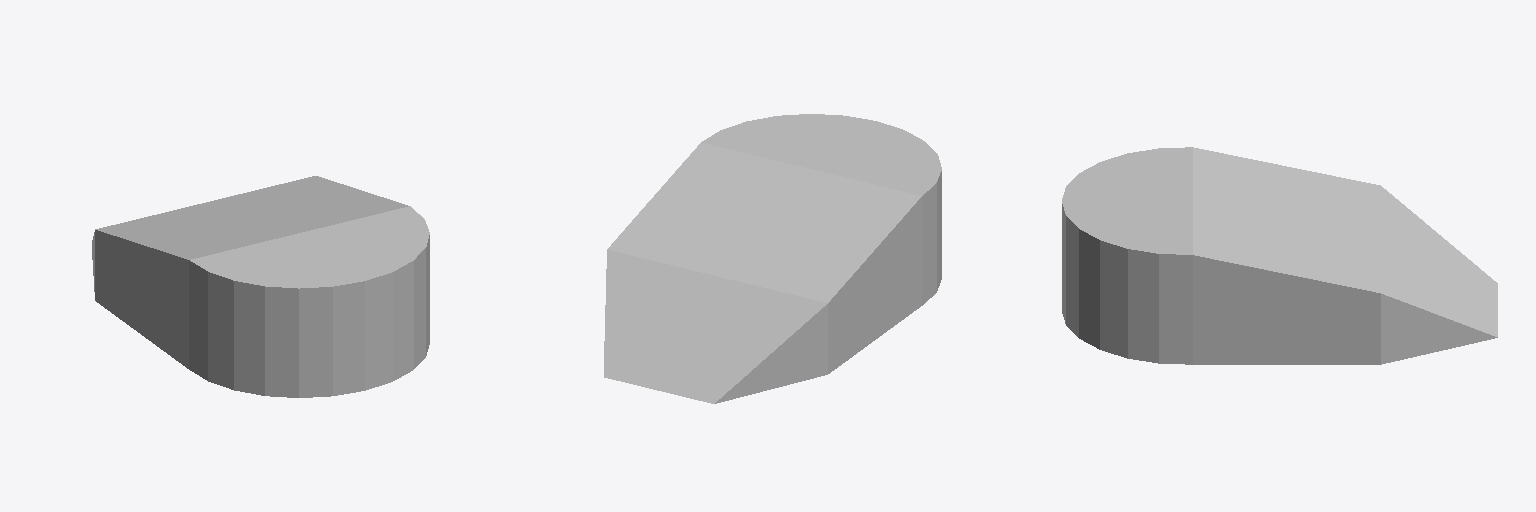
File: computerMouse.obj
3 renders of one model, left to right at view 1: azimuth 30°, elevation 25°; view 2: azimuth 150°, elevation 25°; view 3: azimuth 270°, elevation 25°, orthographic.
Parts seen in each view (by area): view 1: computerMouse; view 2: computerMouse; view 3: computerMouse.
Boxes of the visible parts, x1,y1,x2,y2 form: computerMouse: [92, 176, 429, 397]; computerMouse: [604, 114, 941, 403]; computerMouse: [1062, 147, 1497, 364].
Size of the model in its own units: 0.0497 by 0.0236 by 0.0851.